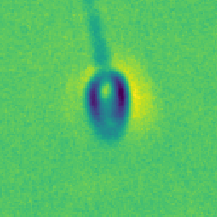normal: (69, 1, 124, 69)
